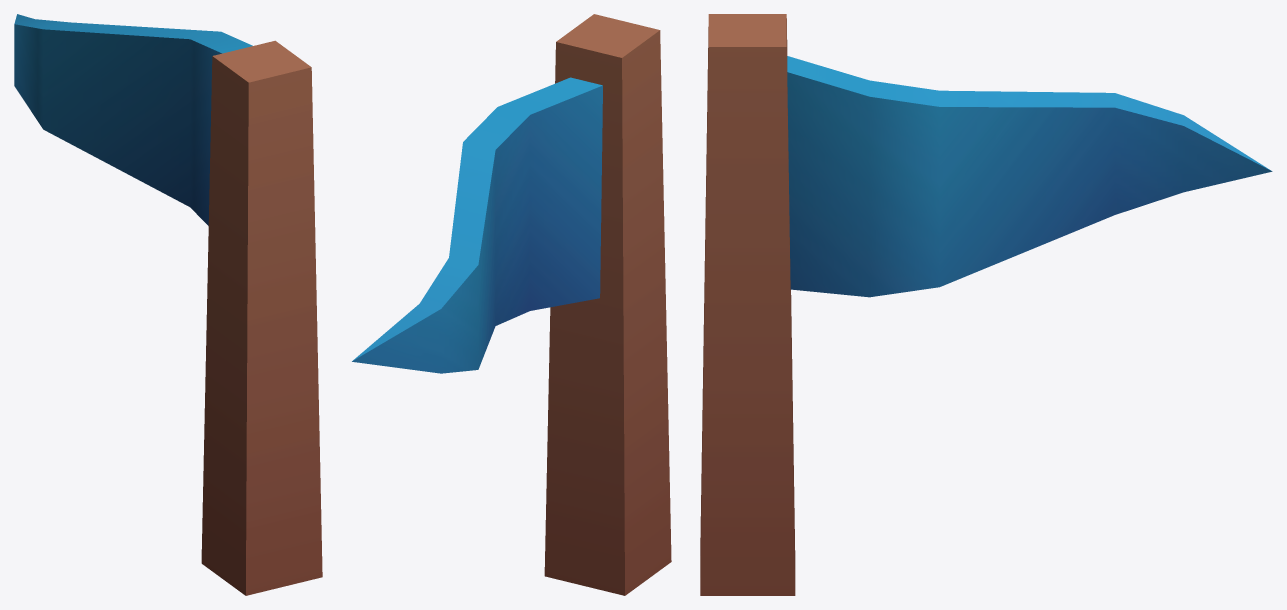
File: flag_blue.glb
3 renders of one model, left to right at view 1: azimuth 30°, elevation 25°; view 2: azimuth 150°, elevation 25°; view 3: azimuth 270°, elevation 25°, orthographic. The views are drawn at different scales.
Parts seen in each view (by area): view 1: flag_blue; view 2: flag_blue; view 3: flag_blue.
Boxes of the visible parts, x1,y1,x2,y2 form: flag_blue: (14,14,322,595); flag_blue: (352,14,671,595); flag_blue: (700,14,1272,595).
Bounding box in the file's own units: 0.055 × 0.2775 × 0.264.
1 material, 1 textured.
